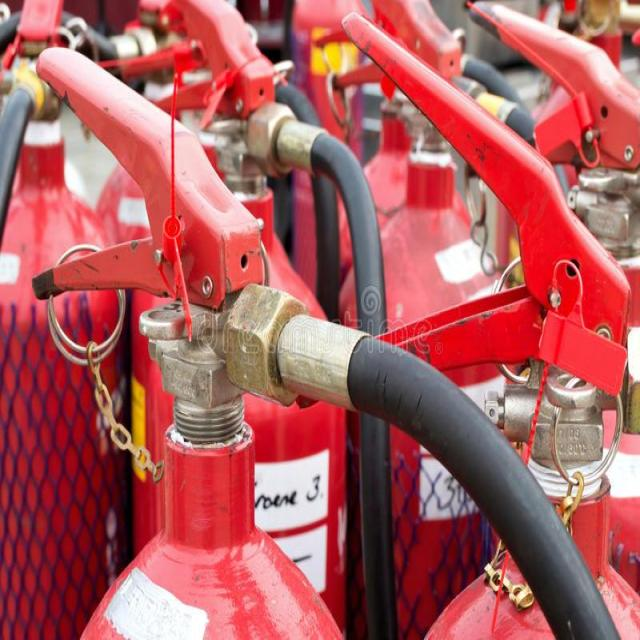fire_extinguisher: (18, 47, 640, 639), (326, 1, 640, 639), (461, 0, 639, 639), (0, 0, 130, 639)
